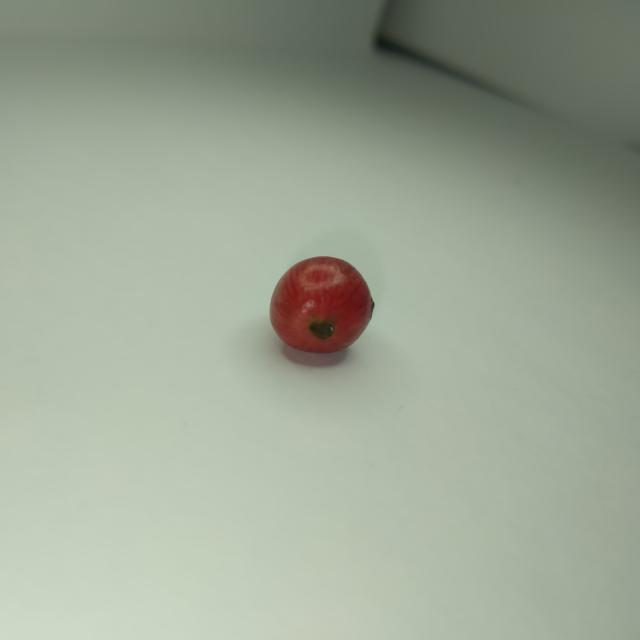Infectado: (270, 256, 373, 354)
